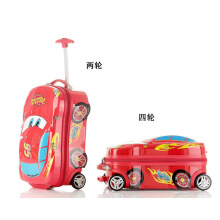suitcase: (17, 36, 94, 193), (94, 134, 214, 194)
